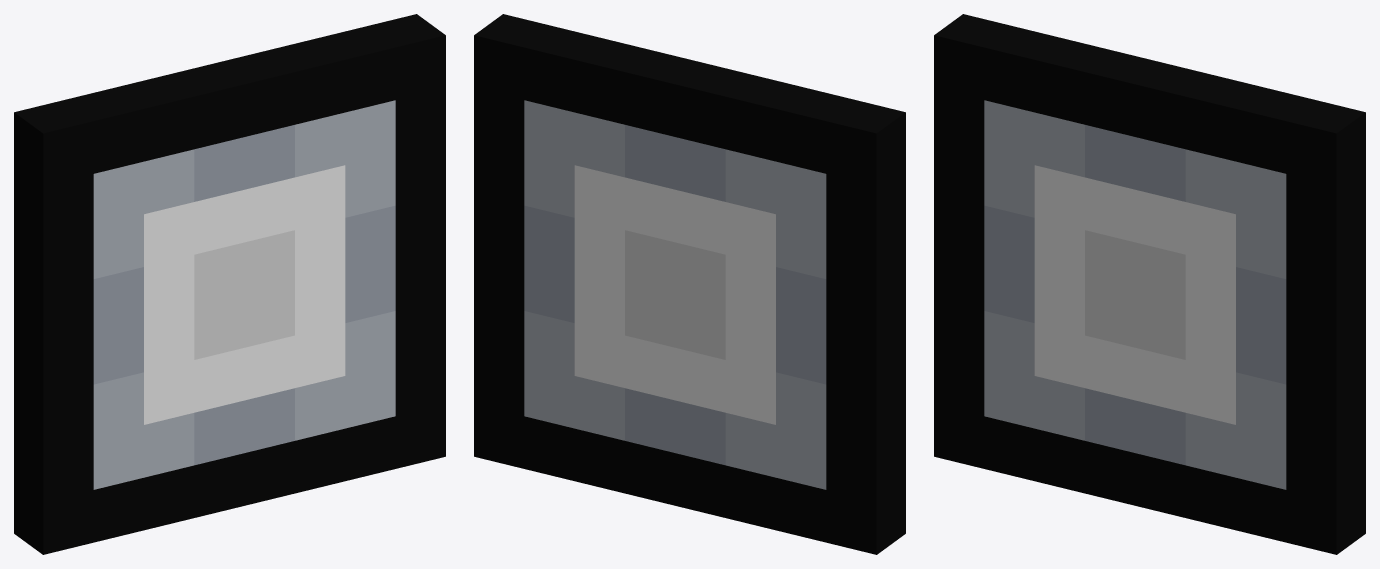
File: Weak Jump Pad.glb
The picture shows the model from 3 angles, left to right: view 1: azimuth 30°, elevation 25°; view 2: azimuth 150°, elevation 25°; view 3: azimuth 330°, elevation 25°; orthographic projection.
Visible parts, largest first — view 1: generated(Clone); view 2: generated(Clone); view 3: generated(Clone).
Part boxes in pixels (x1,y1,x2,y2): generated(Clone): (14,14,445,554); generated(Clone): (474,14,905,554); generated(Clone): (934,14,1365,554).
Size of the model in its own units: 8 by 8 by 1.
1 material, 1 textured.
